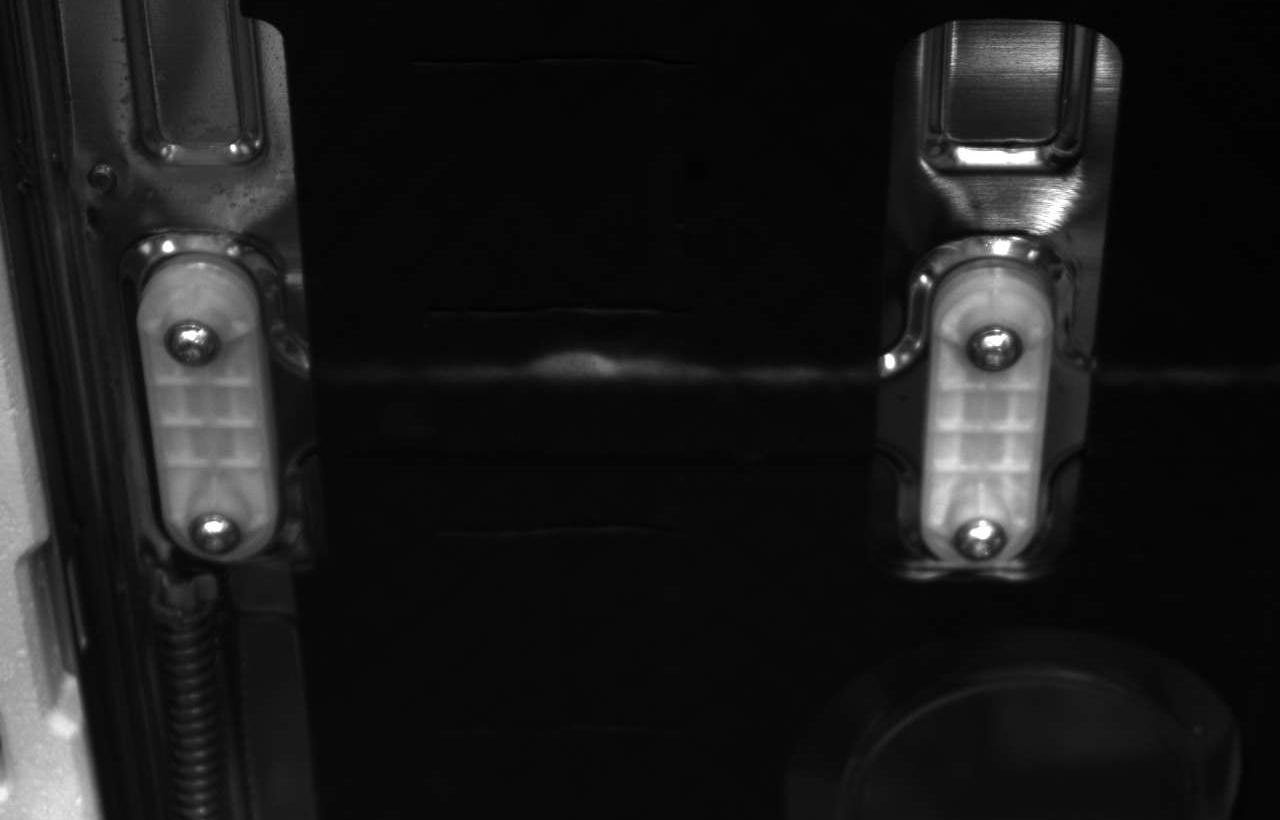vida-ok: (157, 307, 229, 374), (951, 502, 1017, 571), (964, 314, 1031, 381), (184, 502, 250, 561)
